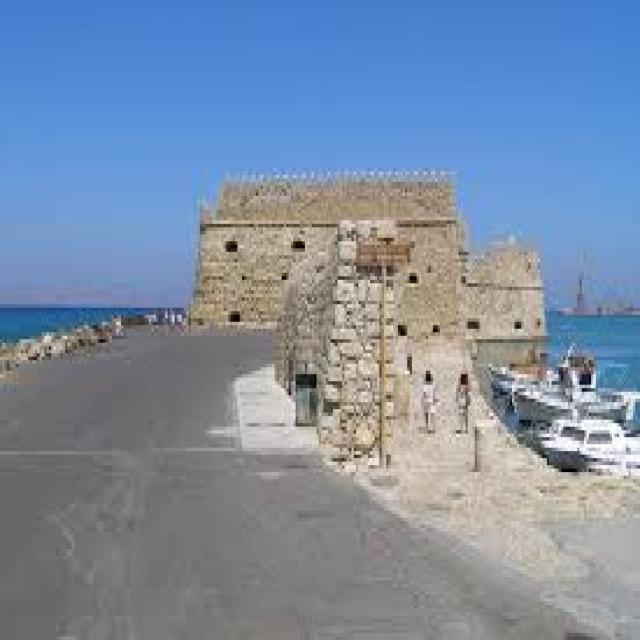Kules: (191, 166, 549, 343)
